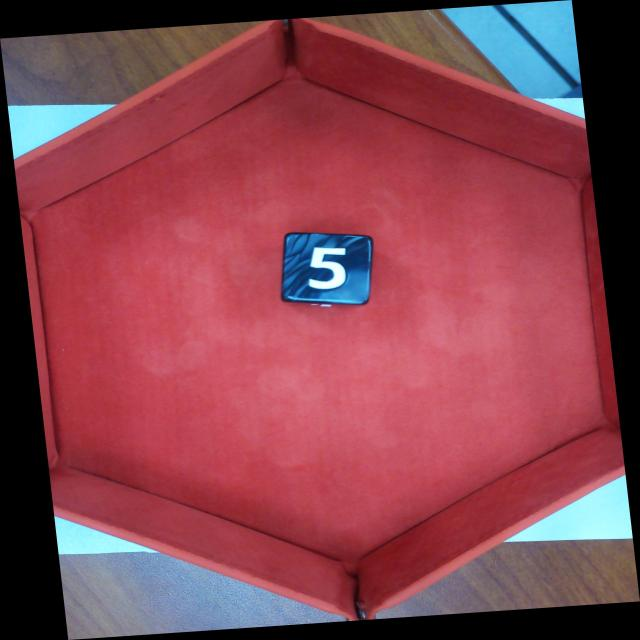dice: (289, 236, 370, 302)
